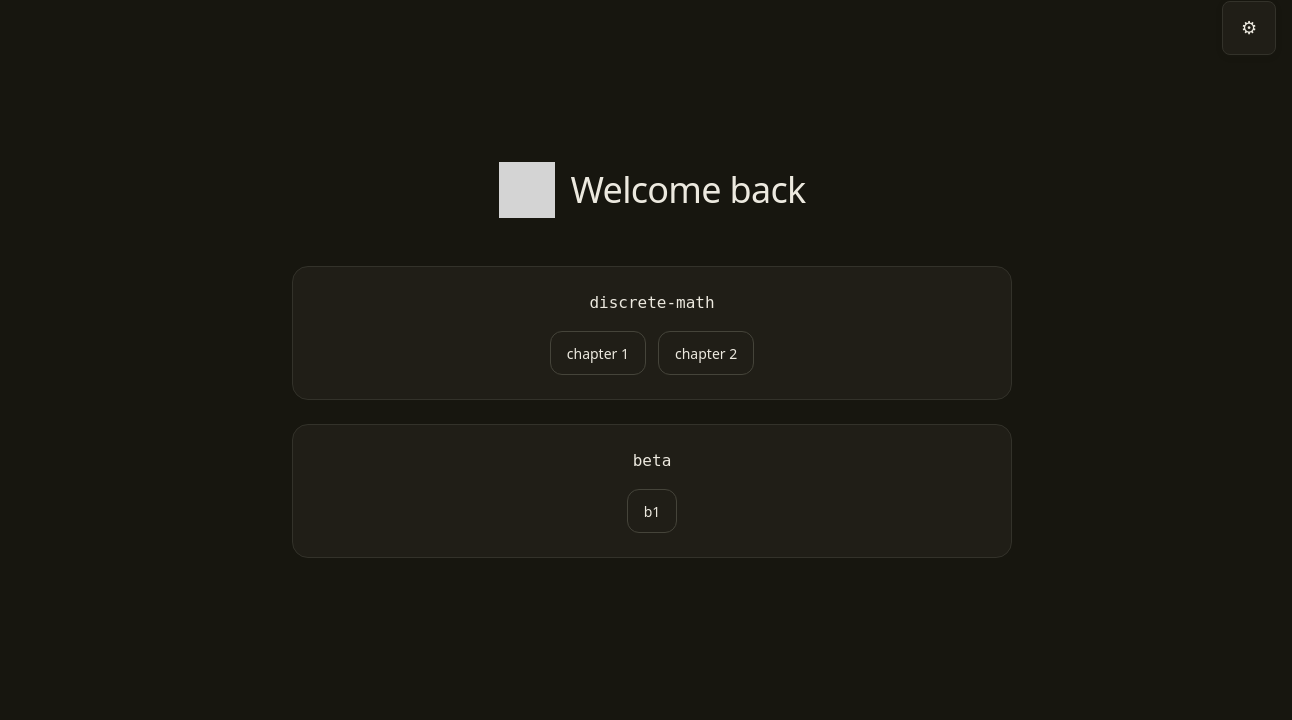
Test: Home chapter chooser › selecting a chapter persists selection, completes onboarding, and opens study
Click the button "chapter 2" at point(706, 353), box top-left (658, 331), bottom-right (754, 375)
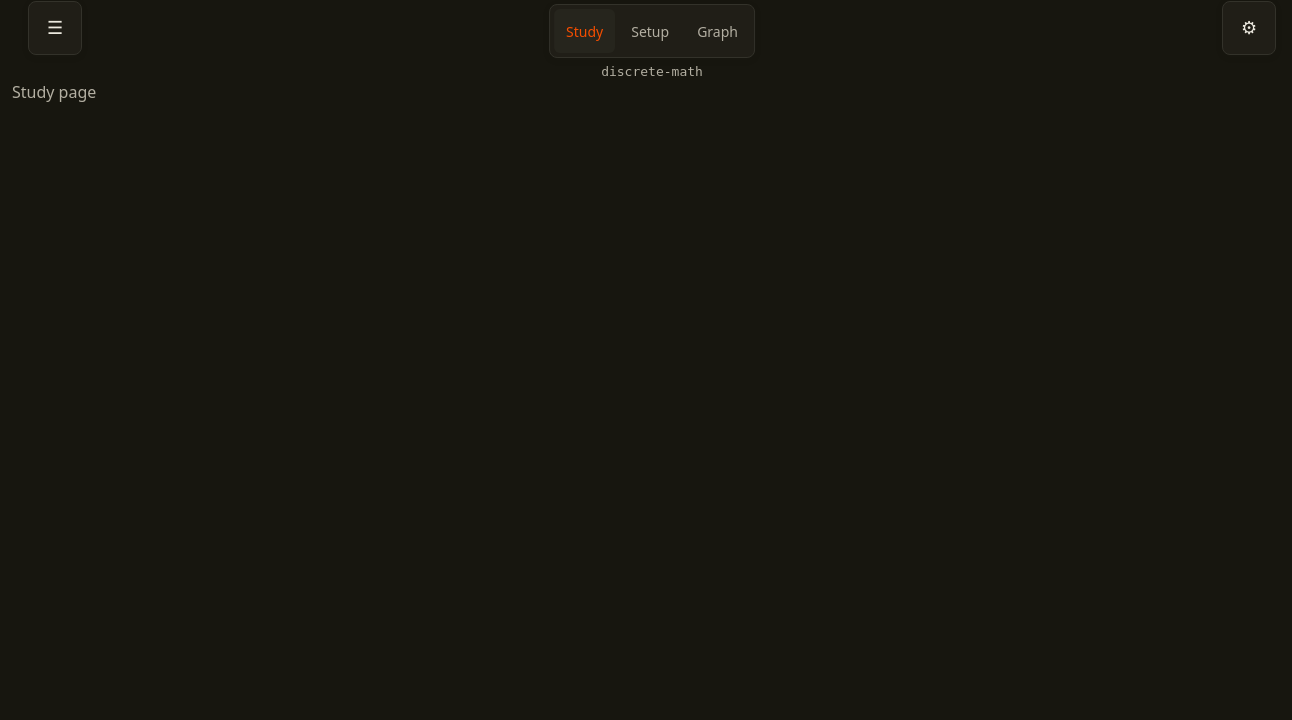
Expected: the text "Study page" is shown, top-left (12, 81), bottom-right (96, 103)
